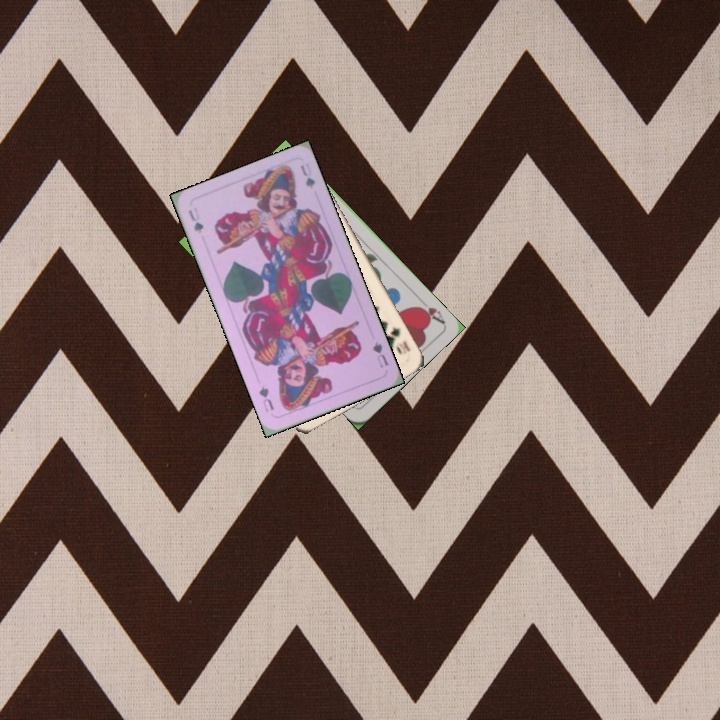G10: (385, 323, 413, 357)
GU: (368, 338, 391, 370), (184, 203, 206, 236)
HA: (412, 294, 447, 327)
